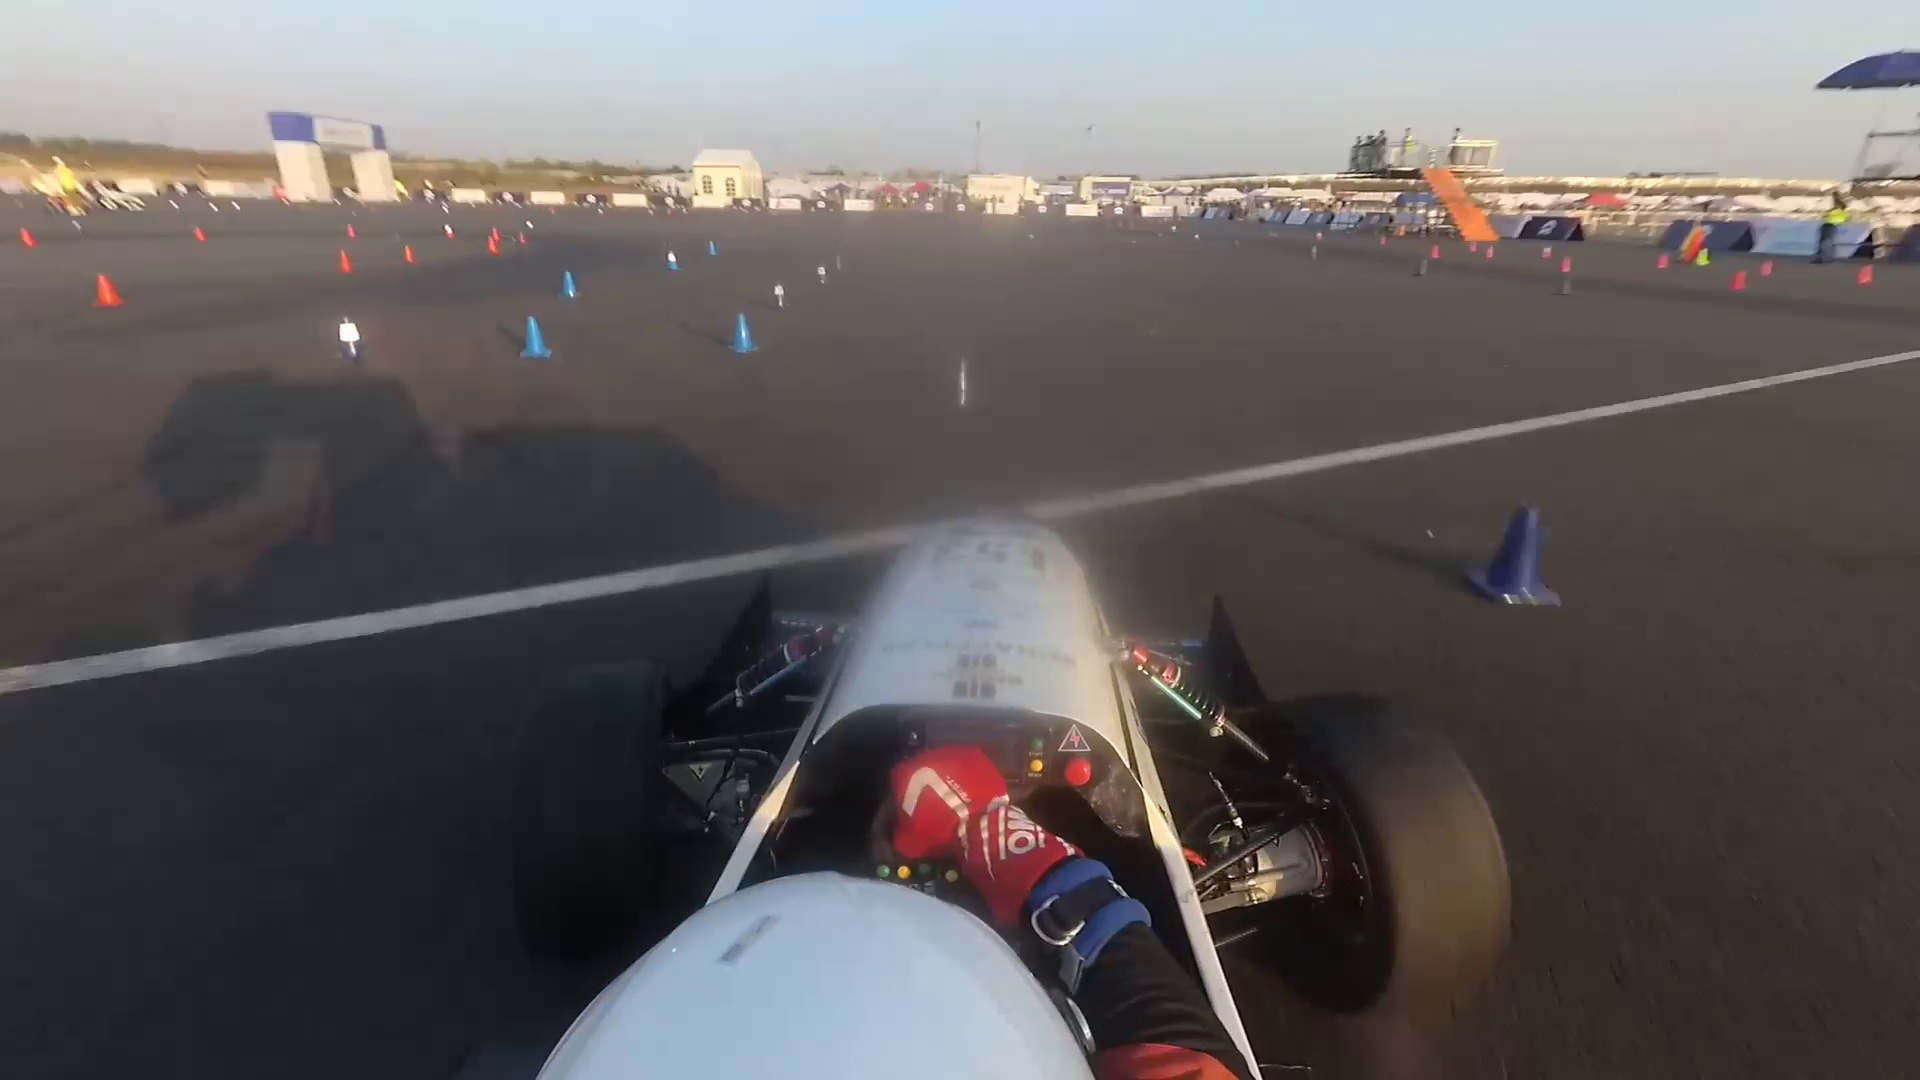blue_cone: (1465, 495, 1567, 620), (935, 353, 982, 429), (324, 303, 373, 373), (498, 305, 554, 364), (729, 307, 764, 364), (699, 225, 731, 269), (559, 266, 591, 309), (661, 243, 686, 280), (771, 274, 795, 313), (1555, 270, 1582, 301), (814, 256, 836, 287), (1410, 255, 1431, 276), (1189, 228, 1207, 251), (1309, 239, 1323, 262), (679, 203, 692, 218), (440, 204, 454, 218), (596, 204, 604, 218), (646, 204, 654, 216), (665, 208, 673, 218), (1171, 225, 1178, 235)
red_cone: (91, 264, 127, 313), (331, 245, 361, 281), (1855, 256, 1878, 285), (190, 220, 214, 247), (1760, 256, 1782, 282), (17, 224, 36, 252), (1535, 239, 1555, 264), (1731, 266, 1749, 294), (1660, 244, 1675, 274), (400, 243, 417, 268), (492, 222, 509, 247), (516, 222, 531, 248), (443, 220, 462, 243), (340, 222, 363, 239), (487, 233, 500, 257), (1560, 256, 1577, 273), (1429, 241, 1444, 258), (1469, 235, 1481, 251), (1379, 233, 1390, 247), (1487, 243, 1497, 257), (551, 204, 556, 218)
